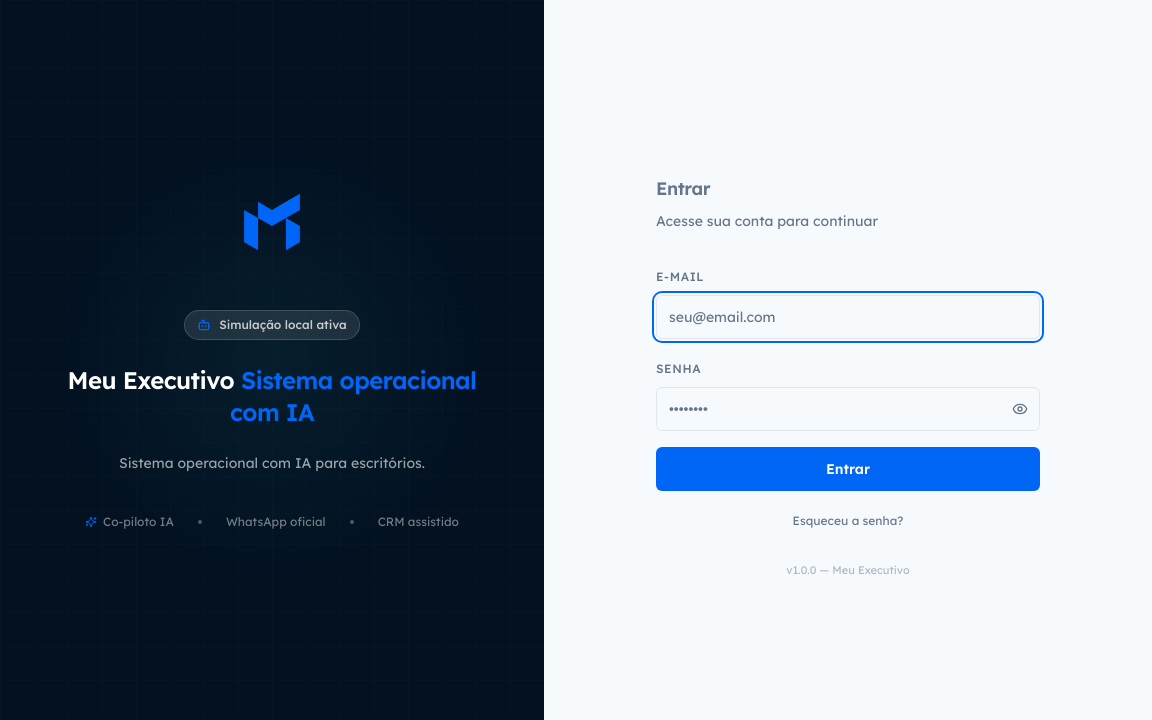
Login com MFA › accepts a recovery code without falling back to the temporary code
Later steps or results of the test are not shown.
Type "admin@klm.test" into the field with placeholder "seu@email.com" at {"x": 848, "y": 317}, box [656,295,1040,339]
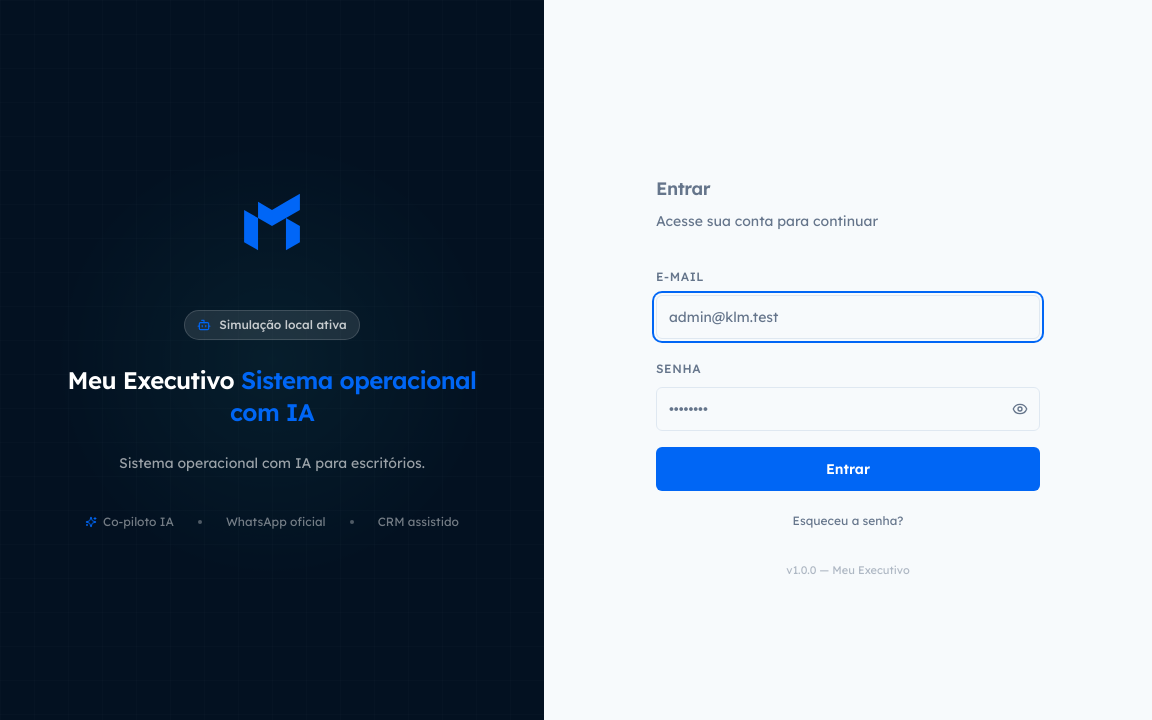
Type "senha-segura" into the password field with placeholder "••••••••" at {"x": 848, "y": 409}, box [656,387,1040,431]
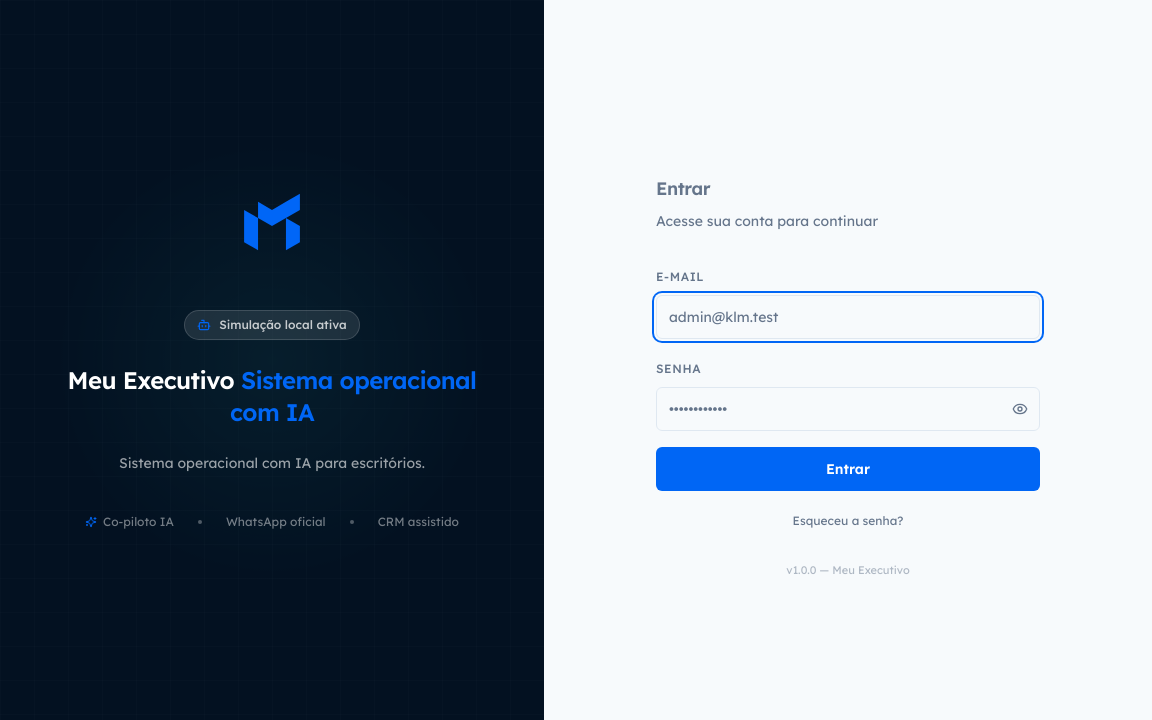
Click the button "Entrar" at {"x": 848, "y": 469}, box [656,447,1040,491]
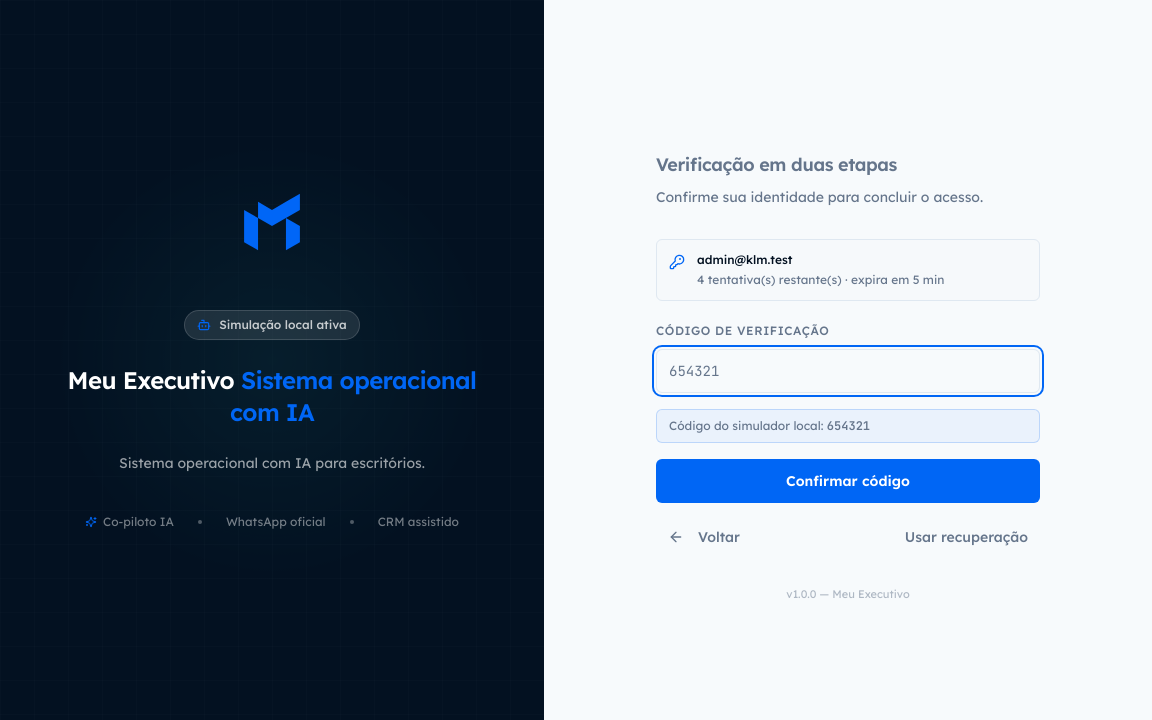
Now the heading "Verificação em duas etapas" is shown, box [656,153,897,176]
